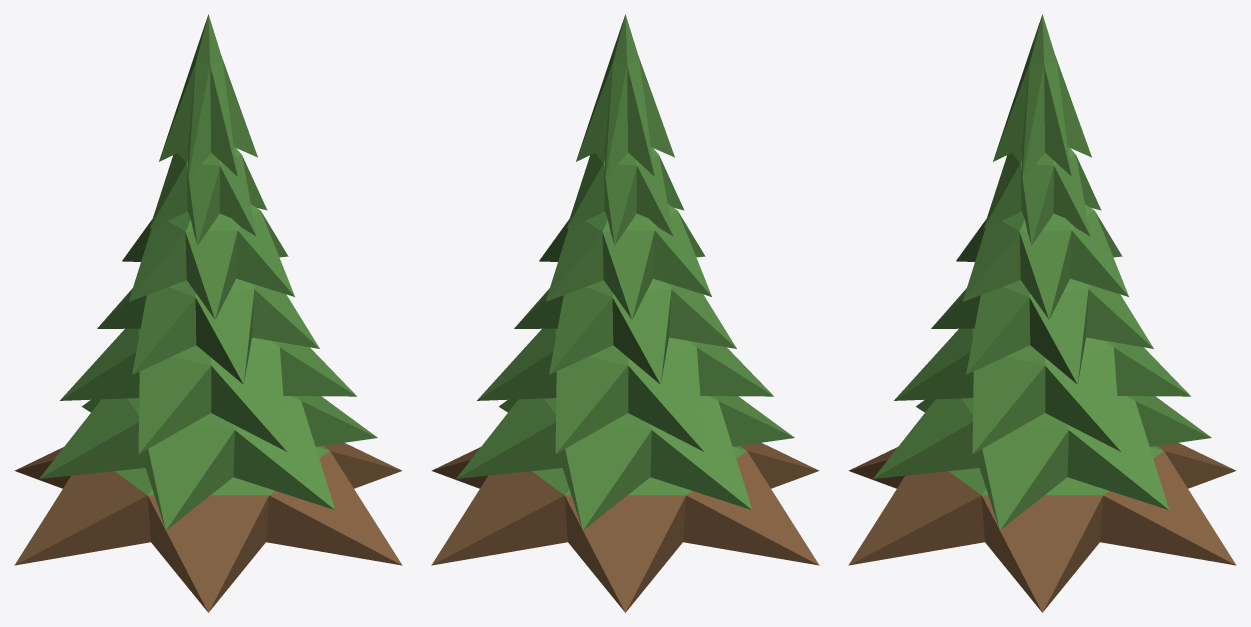
The model's file is tree3d-087.glb.
3 views of the same model, side by side, from view 1: azimuth 30°, elevation 25°; view 2: azimuth 150°, elevation 25°; view 3: azimuth 270°, elevation 25° (orthographic).
Parts seen in each view (by area): view 1: tree3d-087; view 2: tree3d-087; view 3: tree3d-087.
Boxes of the visible parts, x1=… form: tree3d-087: x1=14, y1=14, x2=402, y2=612; tree3d-087: x1=431, y1=14, x2=819, y2=612; tree3d-087: x1=848, y1=14, x2=1236, y2=612.
Size of the model in its own units: 0.7712 by 1 by 0.6679.
